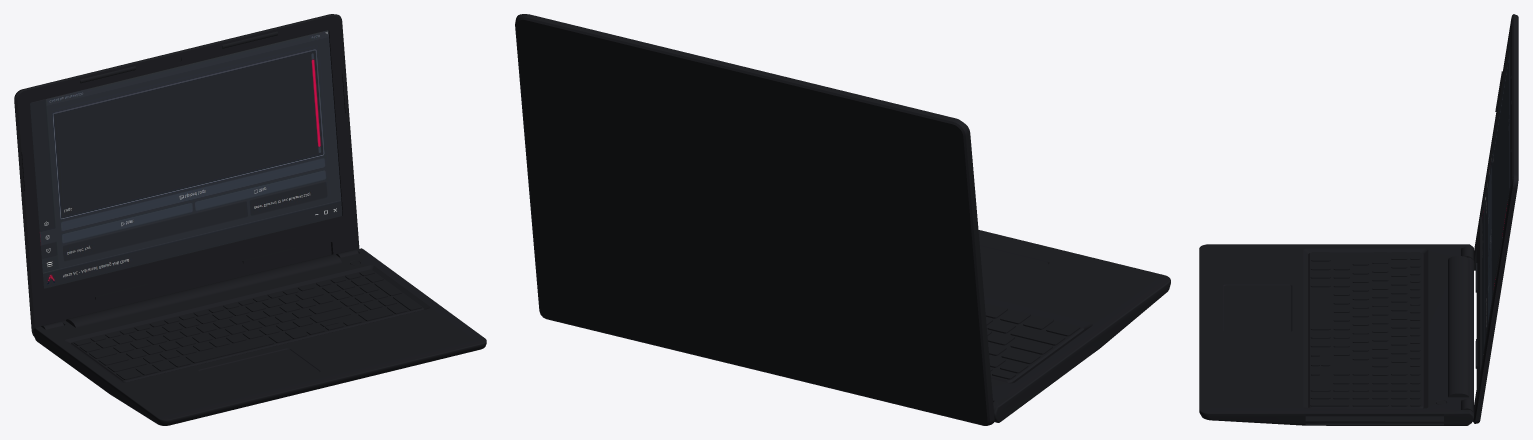
The model's file is laptop.glb.
3 renders of one model, left to right at view 1: azimuth 30°, elevation 25°; view 2: azimuth 150°, elevation 25°; view 3: azimuth 270°, elevation 25°, orthographic. The views are drawn at different scales.
Parts seen in each view (by area): view 1: Laptop_screen_NakedSingularity, Laptop_body_NakedSingularity; view 2: Laptop_screen_NakedSingularity, Laptop_body_NakedSingularity; view 3: Laptop_body_NakedSingularity, Laptop_screen_NakedSingularity.
Part boxes in pixels (x1,y1,x2,y2): Laptop_screen_NakedSingularity: [14, 14, 359, 335]; Laptop_body_NakedSingularity: [33, 248, 486, 425]; Laptop_screen_NakedSingularity: [515, 14, 994, 425]; Laptop_body_NakedSingularity: [978, 230, 1170, 422]; Laptop_body_NakedSingularity: [1199, 244, 1473, 425]; Laptop_screen_NakedSingularity: [1461, 14, 1518, 423].
Bounding box in the file's own units: 0.3789 × 0.2596 × 0.3022.
Materials: 2 (2 with a texture image).
